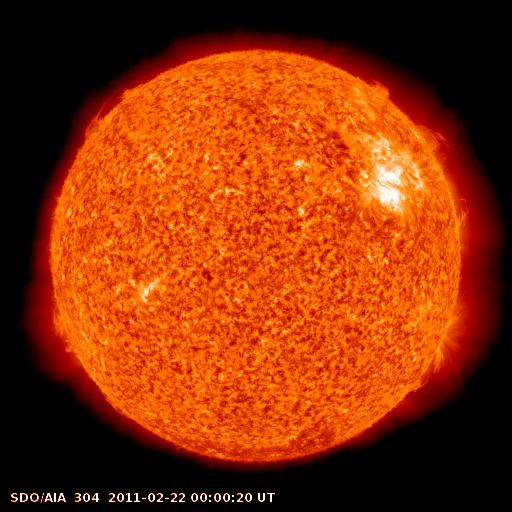prominence: (72, 71, 158, 145), (42, 293, 85, 363), (412, 111, 458, 172), (360, 67, 398, 106)
